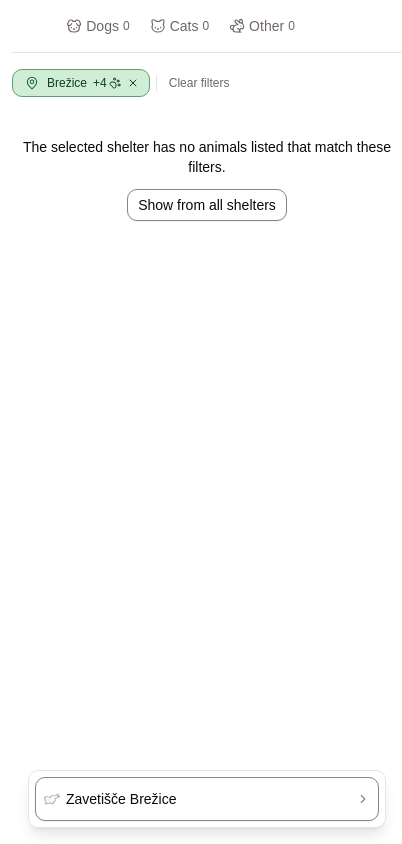
animal grid empty state › names a registry-only shelter from a URL and lets its chip restore listings
The image size is (402, 844).
Expected: the text "The selected shelter has no animals listed that match these filters." is shown, [12,137,401,177]
Click the button with aria-label "Remove filter Brežice" at {"x": 81, "y": 83}, box [12,69,150,97]
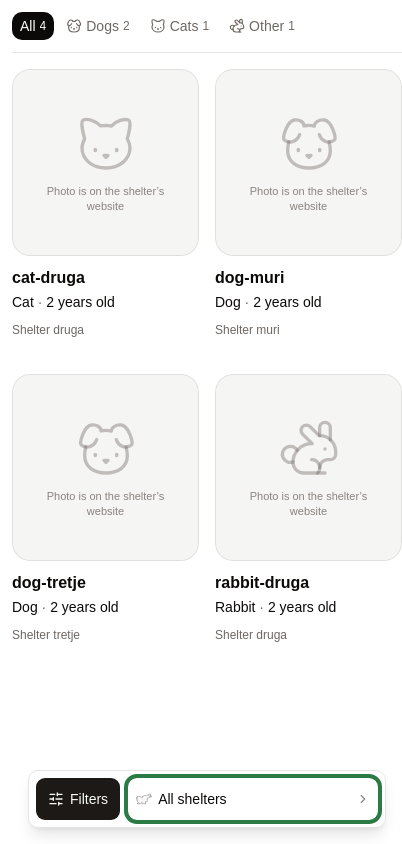
Expected: the element "dog-muri" is shown, [215,69,401,350]
